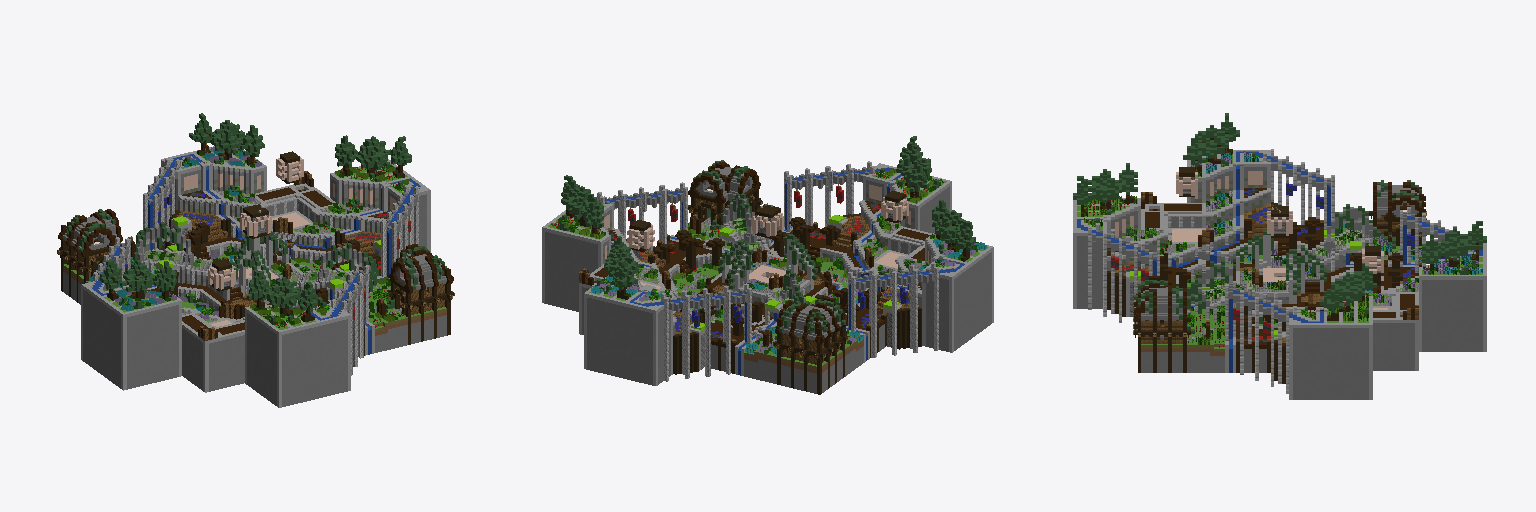
The picture shows the model from 3 angles: view 1: azimuth 30°, elevation 25°; view 2: azimuth 150°, elevation 25°; view 3: azimuth 270°, elevation 25°; orthographic projection.
Bounding box in the file's own units: 109 × 33 × 109.
45 materials, 13 textured.